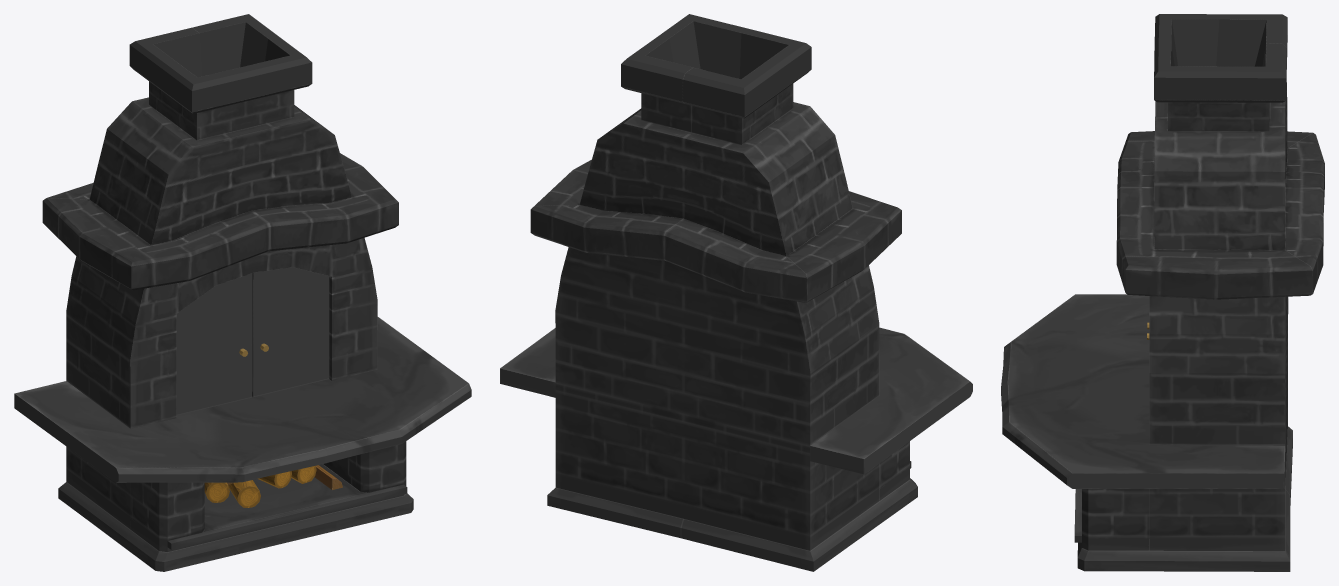
The model's file is StoneOven.glb.
The picture shows the model from 3 angles, left to right: view 1: azimuth 30°, elevation 25°; view 2: azimuth 150°, elevation 25°; view 3: azimuth 270°, elevation 25°; orthographic projection. The views are drawn at different scales.
Parts seen in each view (by area): view 1: Cube.010, Cylinder.049; view 2: Cube.010; view 3: Cube.010.
Boxes of the visible parts, x1=… form: Cube.010: x1=14, y1=14, x2=471, y2=571; Cylinder.049: x1=204, y1=465, x2=342, y2=507; Cube.010: x1=500, y1=14, x2=972, y2=571; Cube.010: x1=1001, y1=14, x2=1324, y2=571.
Bounding box in the file's own units: 1.18 × 1.42 × 0.9005.
2 materials, 2 textured.
